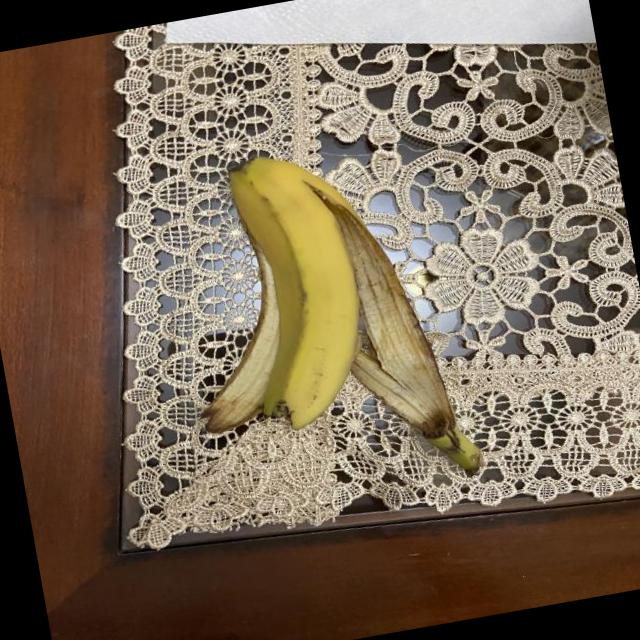banana-peel: (158, 125, 484, 516), (300, 150, 484, 490), (218, 142, 380, 434)
